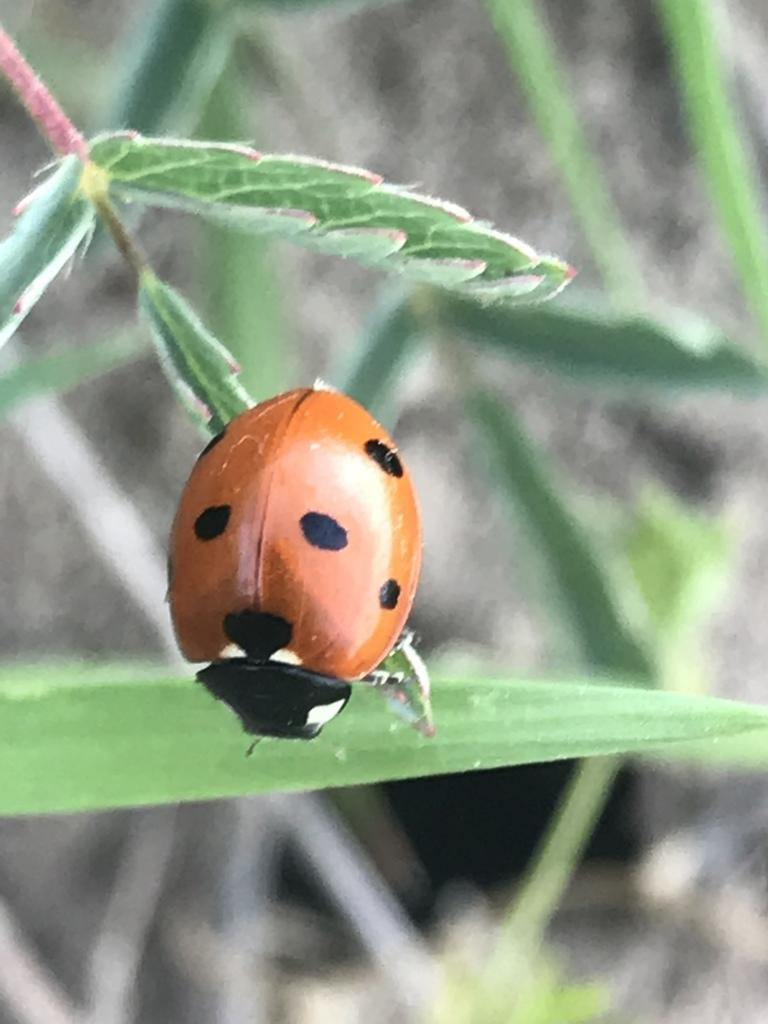ladybug: (166, 381, 439, 759)
